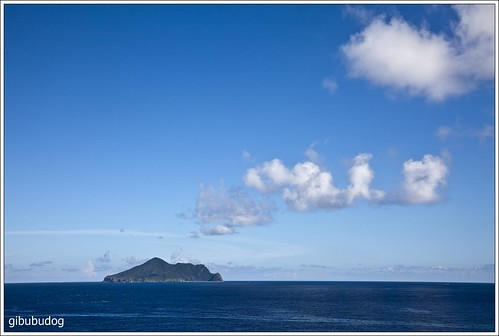turtleIsland: (103, 257, 223, 283)
